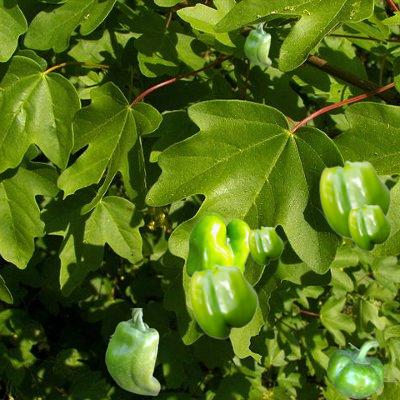bell_pepper: (319, 160, 390, 238), (189, 264, 257, 338), (105, 308, 159, 394), (185, 212, 250, 277), (327, 339, 383, 397), (348, 204, 390, 250), (248, 226, 282, 264), (244, 23, 270, 65)
